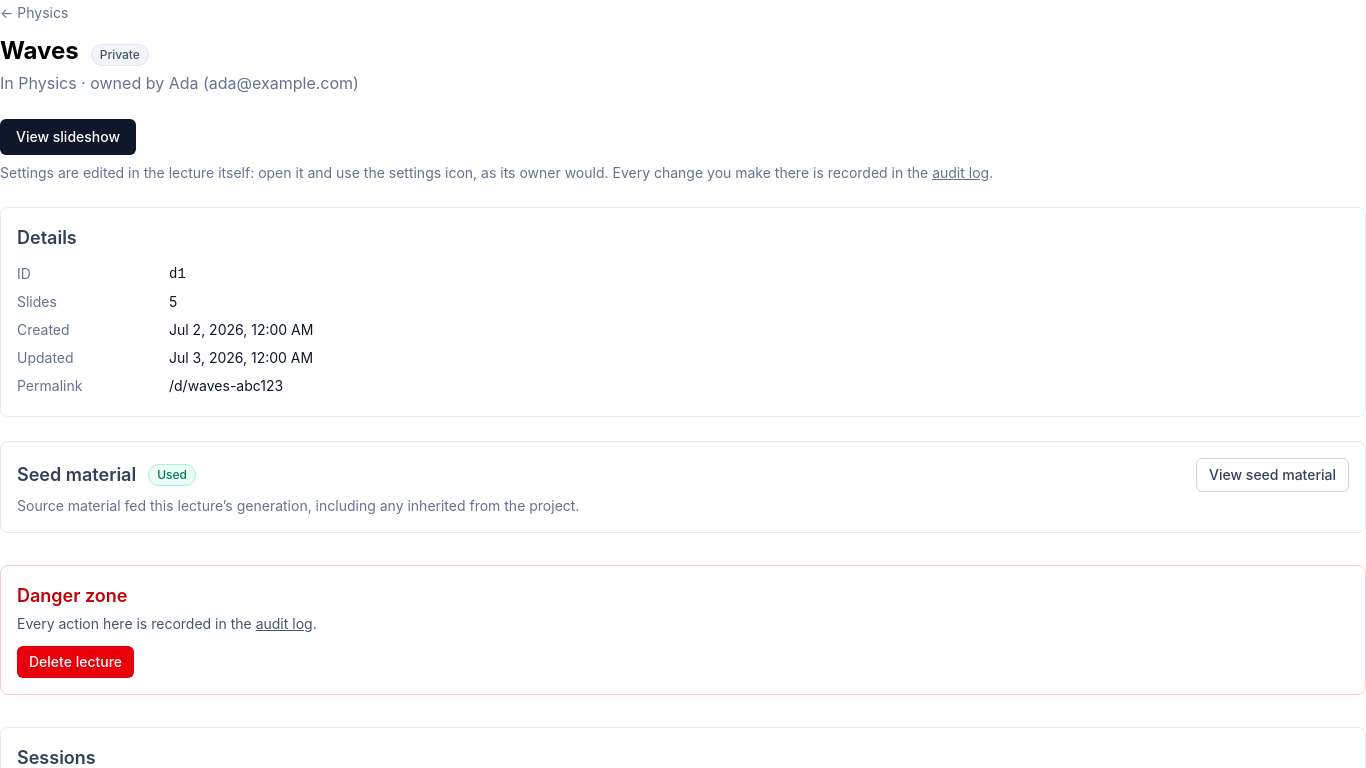
Test: AdminDeckPage soft-deleted content › badges seed material the owner removed
The width and height of the screenshot is (1366, 768).
Expected: the heading "Waves" is shown, [0,35,79,67]
Click the button "View seed material".
click(1273, 475)  # box [1196,458,1349,492]
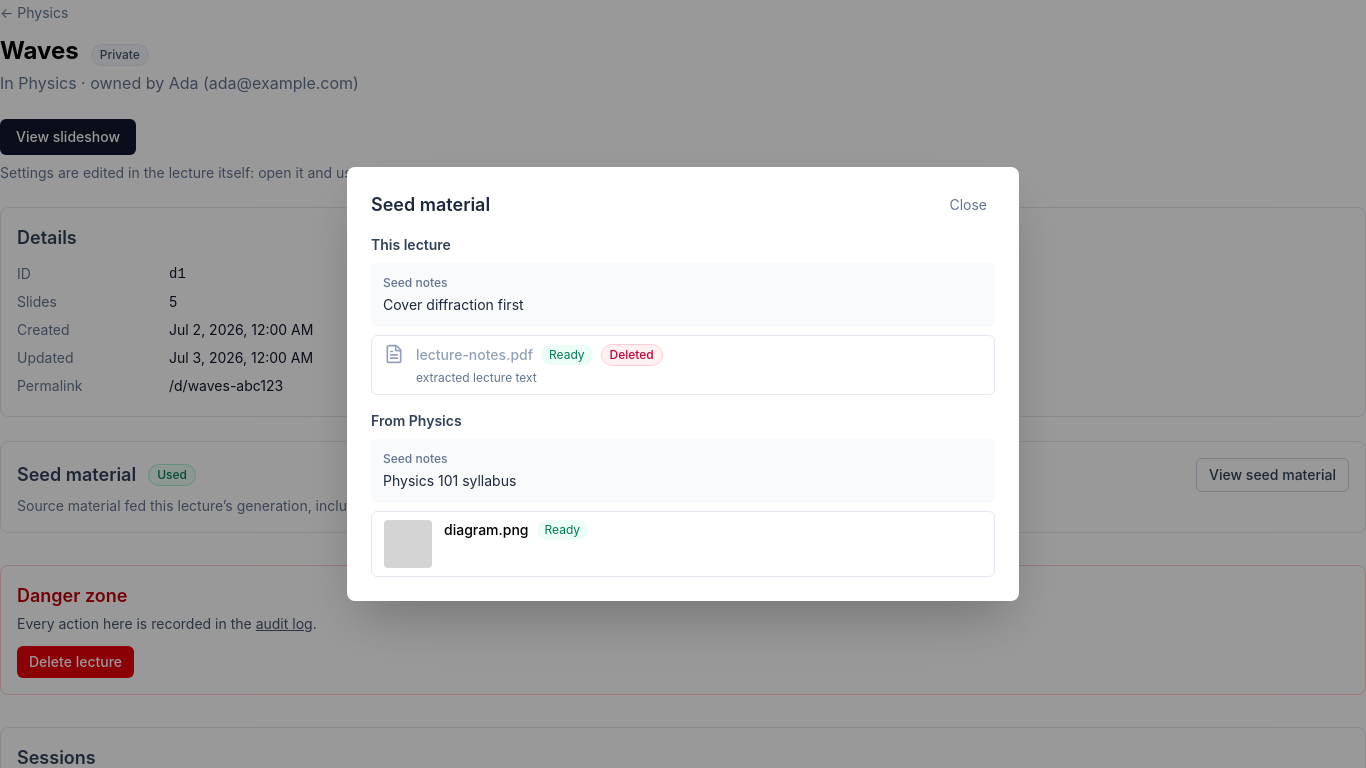
Expected: the text "Deleted" is shown, [601,344,663,366]
